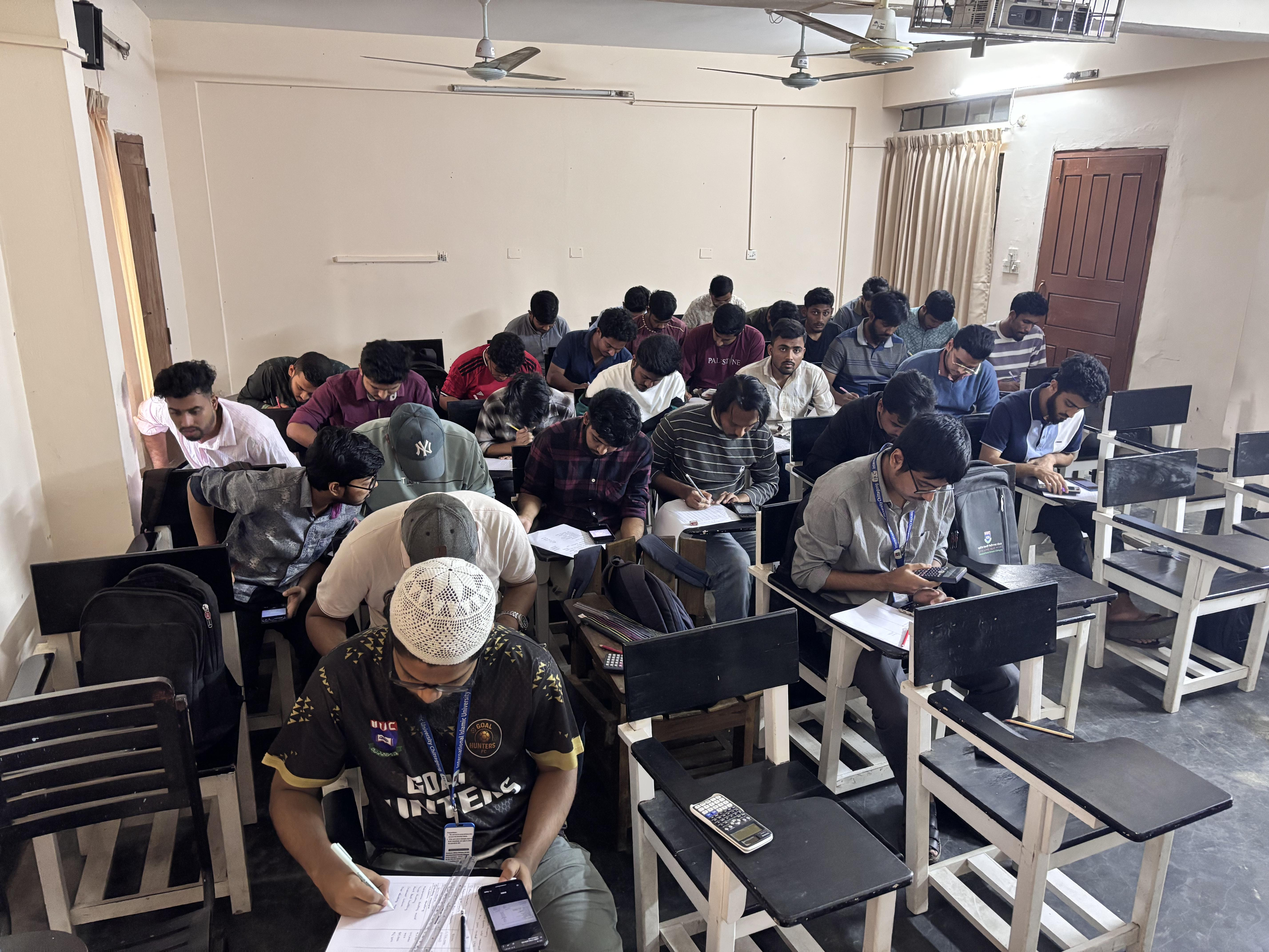copying: (244, 427, 381, 613), (131, 349, 267, 478)
no_cheating: (845, 413, 981, 624), (361, 394, 465, 500), (598, 333, 696, 422), (843, 369, 940, 444), (480, 371, 567, 453), (920, 323, 992, 416), (846, 293, 918, 373), (337, 341, 417, 409), (455, 333, 548, 389), (755, 316, 814, 403), (995, 288, 1058, 363), (265, 346, 334, 411), (694, 298, 753, 373), (509, 282, 577, 344), (568, 306, 635, 367), (796, 281, 843, 337), (915, 282, 962, 337), (701, 269, 746, 309), (643, 289, 676, 337)
using_phone: (280, 566, 579, 952), (660, 372, 780, 549), (533, 392, 644, 570), (1015, 352, 1117, 514)
